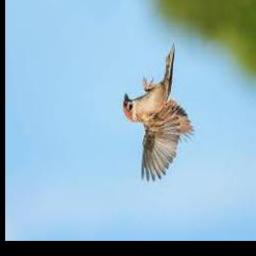Sparrow: (122, 44, 194, 181)
